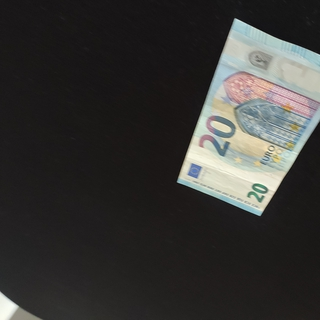20EUROFront: (175, 17, 320, 216)
